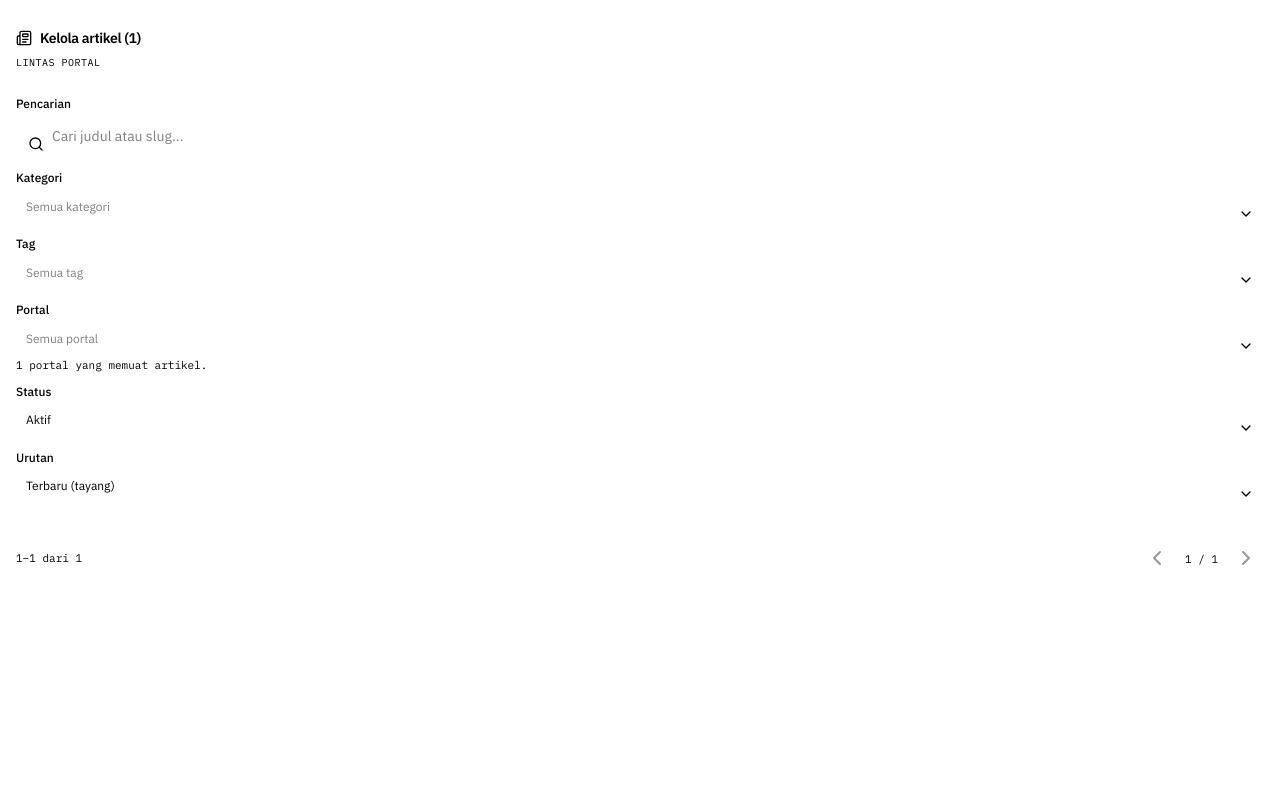
Test: ArticleManager server-driven › allTags mengutamakan tagOptions model
Click the dropdown labelled "Tag" at (640, 272), box [16, 256, 1264, 288]
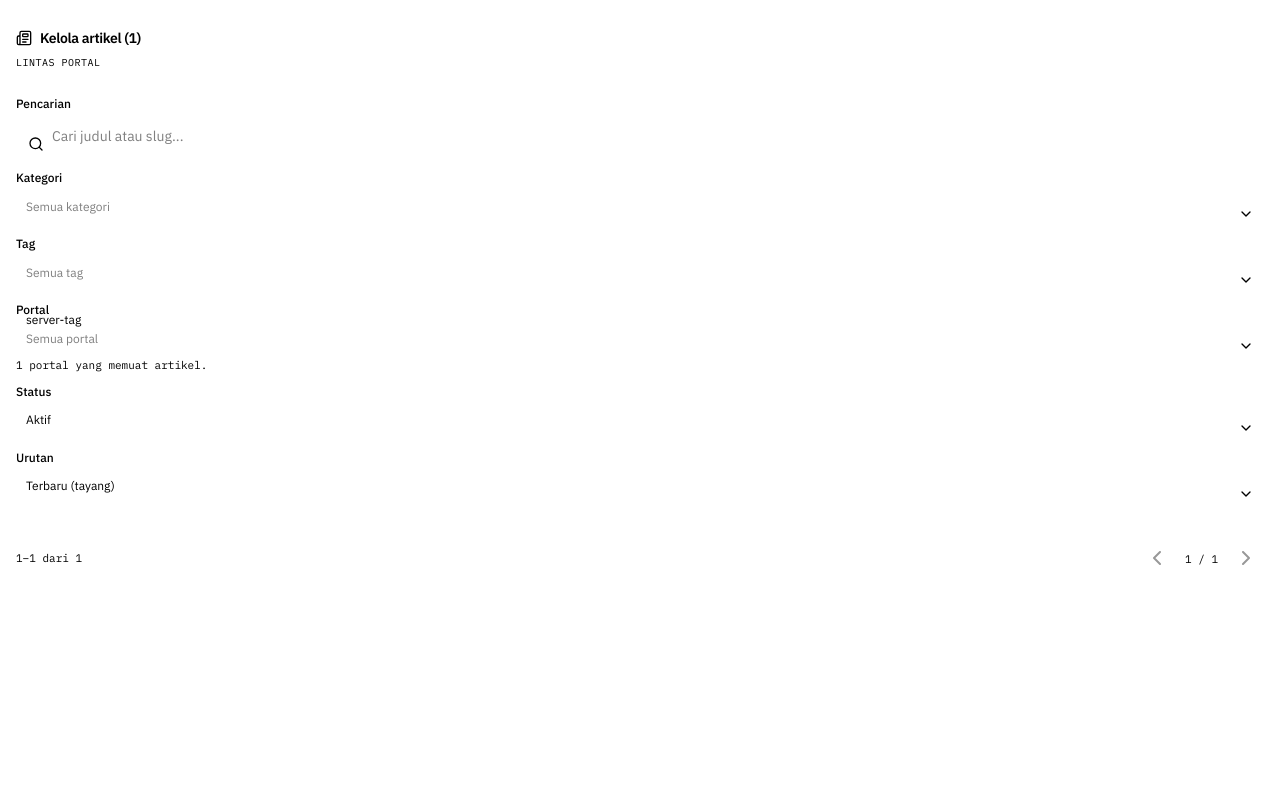
Expected: the option "server-tag" is shown, [26, 312, 81, 327]
